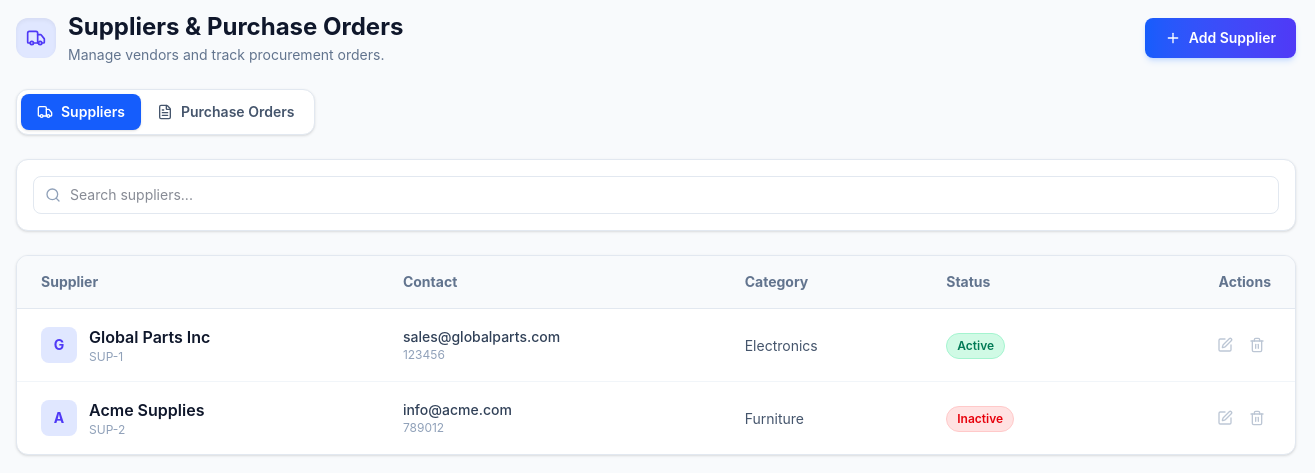
Suppliers Component › filters suppliers by search term
The width and height of the screenshot is (1315, 473).
expect the text "Global Parts Inc" is shown: met, box 89,325 -> 210,349
Type "Acme" into the field with placeholder "Search suppliers..." at (656, 195), box 33,176 -> 1279,214
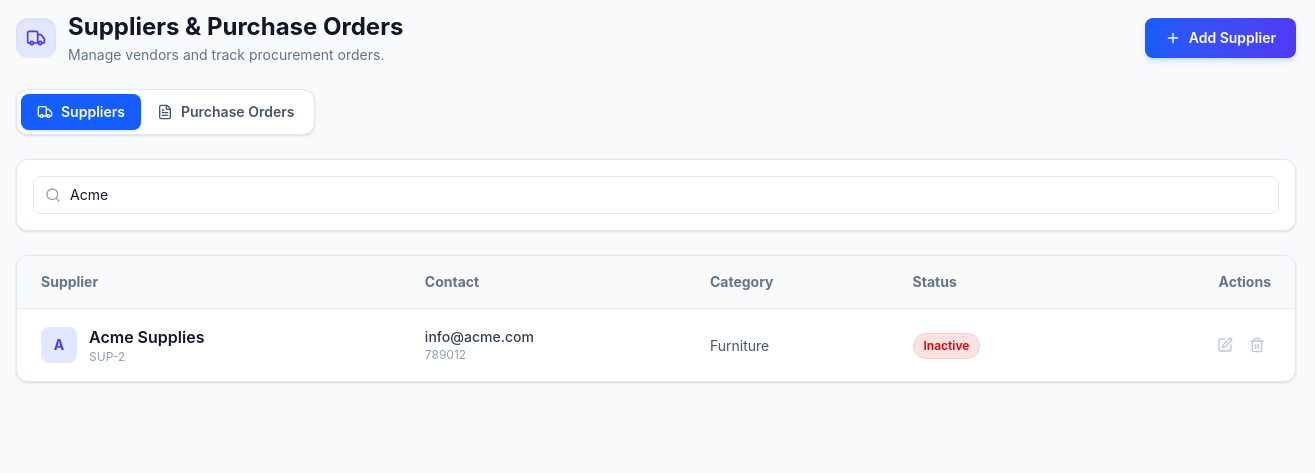
expect the text "Acme Supplies" is shown: met, box 89,325 -> 204,349
expect the text "Global Parts Inc" is gone: met
